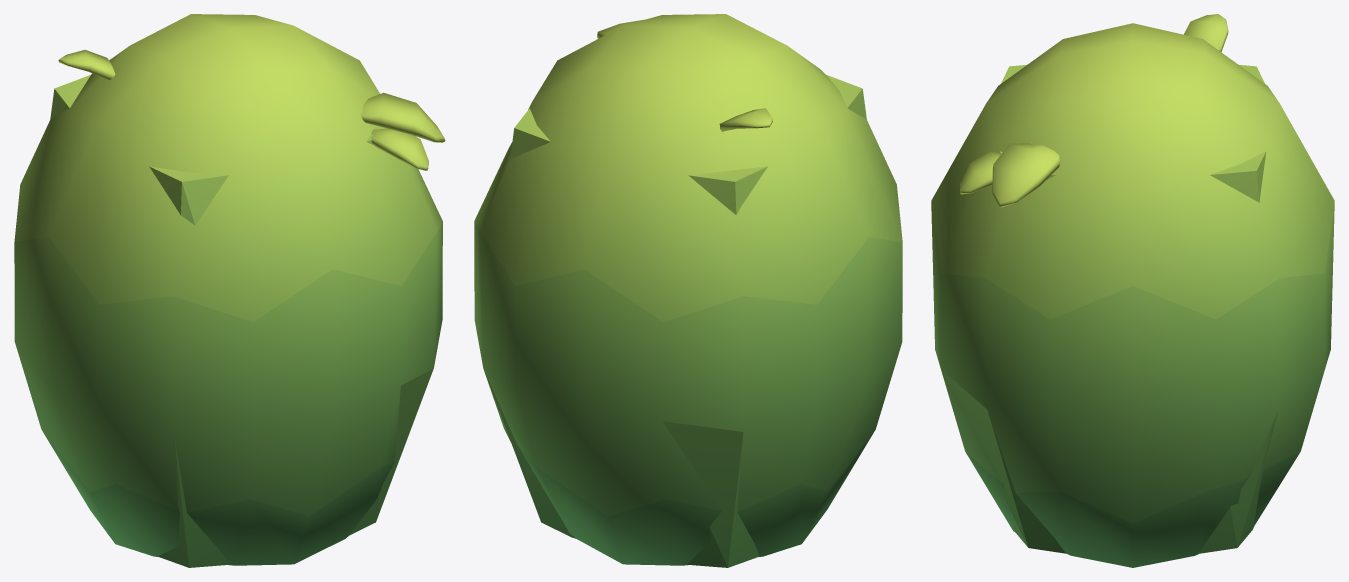
The model's file is bush 05.fbx.
The picture shows the model from 3 angles, left to right: view 1: azimuth 30°, elevation 25°; view 2: azimuth 150°, elevation 25°; view 3: azimuth 270°, elevation 25°; orthographic projection. The views are drawn at different scales.
Visible parts, largest first — view 1: bush 05, bush 05 low; view 2: bush 05, bush 05 low; view 3: bush 05, bush 05 low.
Part boxes in pixels (left/top/right/bottom): bush 05: left=14, top=14, right=445, bottom=565; bush 05 low: left=50, top=75, right=433, bottom=567; bush 05: left=474, top=14, right=902, bottom=565; bush 05 low: left=484, top=75, right=866, bottom=567; bush 05: left=931, top=14, right=1334, bottom=567; bush 05 low: left=941, top=65, right=1278, bottom=553.
Size of the model in its own units: 125 by 166 by 125.
1 material, 1 textured.
